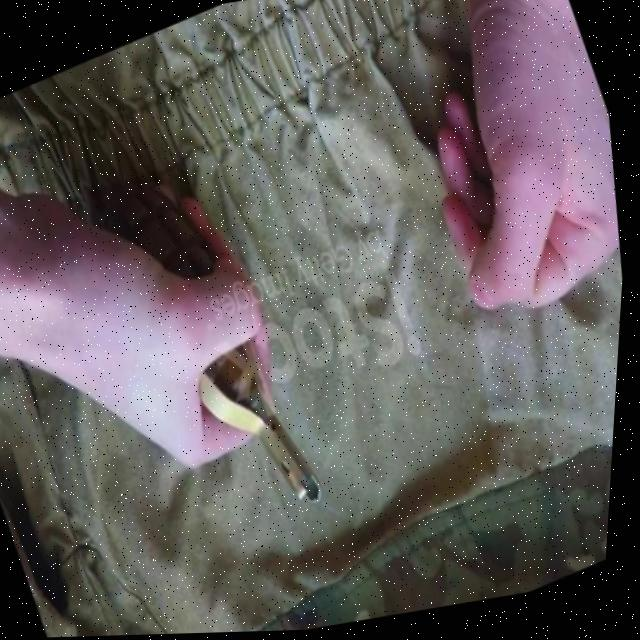grenade: (74, 134, 356, 565)
